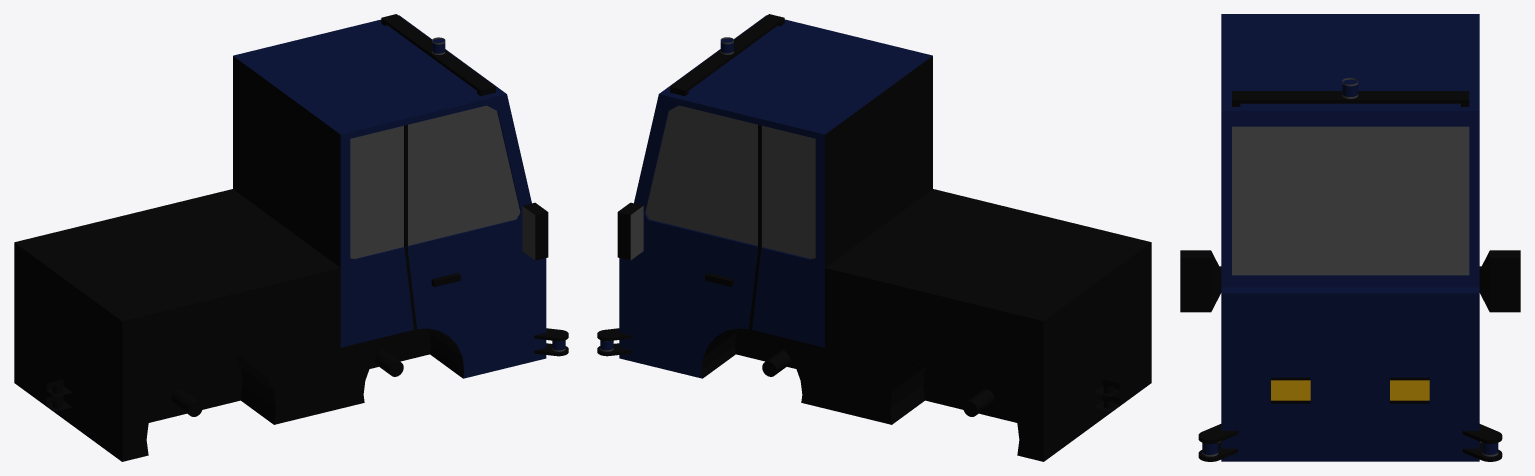
Rendered from TowTractor_Chassis.obj.
3 views of the same model, side by side, from view 1: azimuth 30°, elevation 25°; view 2: azimuth 150°, elevation 25°; view 3: azimuth 270°, elevation 25° (orthographic). The views are drawn at different scales.
Parts seen in each view (by area): view 1: Chassis; view 2: Chassis; view 3: Chassis.
Boxes of the visible parts, x1,y1,x2,y2 form: Chassis: [14, 14, 568, 461]; Chassis: [597, 14, 1151, 461]; Chassis: [1180, 14, 1520, 461].
Bounding box in the file's own units: 318 × 194 × 171.
